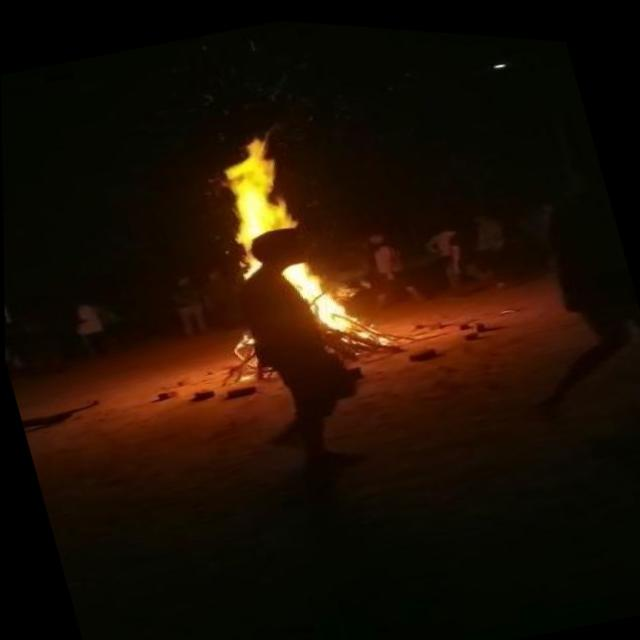fire: (189, 112, 314, 242), (275, 236, 368, 337)
